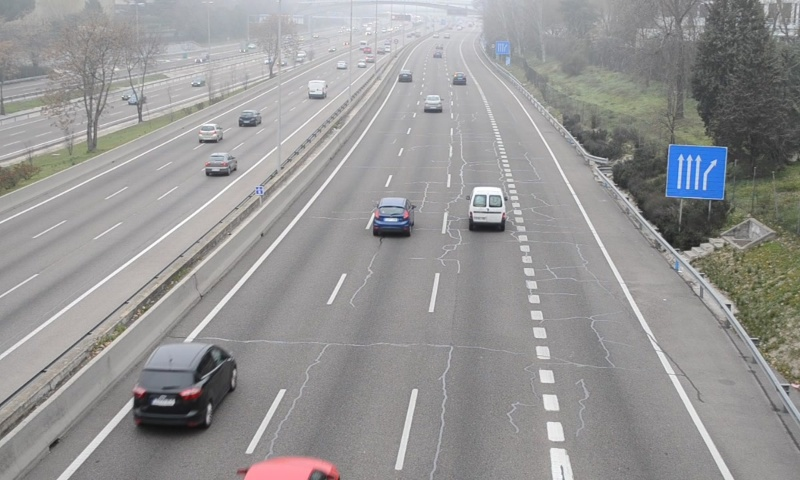car: (134, 343, 235, 428), (372, 198, 414, 234), (423, 95, 442, 112), (398, 68, 413, 83), (452, 72, 467, 86)
van: (468, 186, 506, 230)
